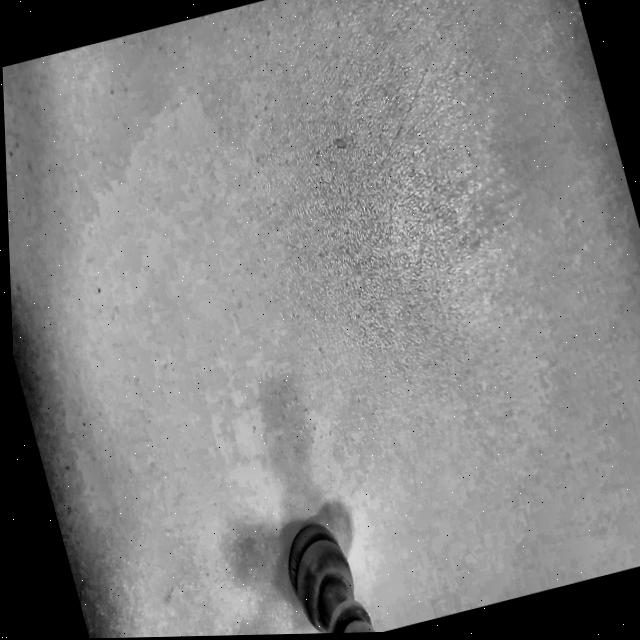white-pawn: (224, 503, 416, 635)
